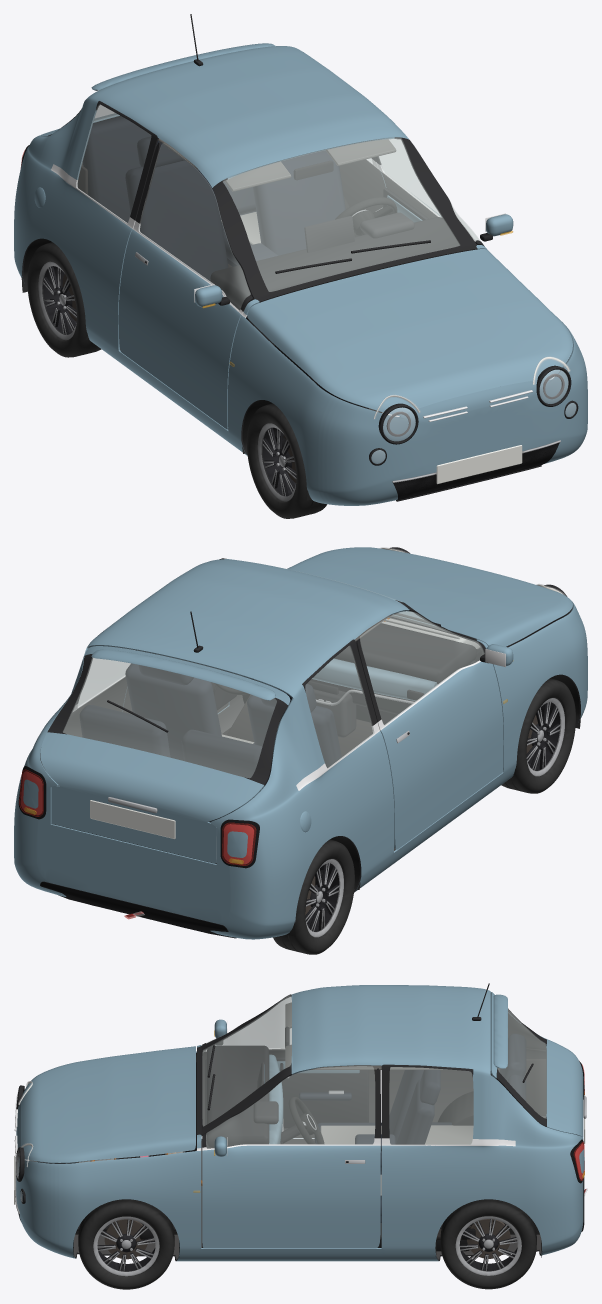
Rendered from fiat500e.glb.
3 renders of one model, top to bottom at view 1: azimuth 30°, elevation 25°; view 2: azimuth 150°, elevation 25°; view 3: azimuth 270°, elevation 25°, orthographic. The views are drawn at different scales.
Visible parts, largest first — view 1: Body, Hood, Windshield, Door_FR, Door_FR_Glass, Seat_FR_Back, Dash_Top, Seat_FL_Back, QuarterGlass, Seat_RR_Back, Wheel_FR_Tire, Wheel_RR_Tire (+12 smaller); view 2: Body, Tailgate, Tailgate_Glass, Door_FR, Hood, Door_FR_Glass, QuarterGlass, Dash_Top, Seat_FL_Back, Wheel_RR_Tire, Wheel_FR_Tire, Seat_RL_Back (+18 smaller); view 3: Body, Door_FL, Hood, Door_FL_Glass, Windshield, QuarterGlass, Dash_Top, Tailgate, Wheel_FL_Tire, Wheel_RL_Tire, Door_FR_Card, Tailgate_Glass (+20 smaller).
Part boxes in pixels (box(x1,y1,x2,y2)): Body: box(14, 46, 587, 505); Hood: box(247, 249, 572, 415); Windshield: box(223, 137, 459, 291); Door_FR: box(118, 142, 252, 429); Door_FR_Glass: box(139, 143, 250, 309); Seat_FR_Back: box(125, 160, 228, 279); Dash_Top: box(210, 217, 459, 306); Seat_FL_Back: box(253, 150, 345, 255); QuarterGlass: box(76, 104, 371, 222); Seat_RR_Back: box(82, 116, 150, 222); Wheel_FR_Tire: box(247, 403, 326, 518); Wheel_RR_Tire: box(27, 242, 101, 357); Body: box(14, 558, 587, 939); Tailgate: box(40, 646, 290, 863); Tailgate_Glass: box(63, 657, 276, 777); Door_FR: box(356, 641, 503, 849); Hood: box(287, 547, 572, 646); Door_FR_Glass: box(360, 611, 484, 724); QuarterGlass: box(78, 646, 373, 768); Dash_Top: box(334, 623, 476, 683); Seat_FL_Back: box(125, 663, 221, 760); Wheel_RR_Tire: box(273, 839, 354, 954); Wheel_FR_Tire: box(501, 678, 575, 793); Seat_RL_Back: box(79, 705, 170, 757); Body: box(16, 985, 583, 1261); Door_FL: box(202, 1068, 380, 1248); Hood: box(21, 1046, 195, 1163); Door_FL_Glass: box(206, 1066, 374, 1148); Windshield: box(202, 995, 291, 1126); QuarterGlass: box(389, 1067, 473, 1144); Dash_Top: box(207, 1045, 269, 1148); Tailgate: box(490, 992, 583, 1137); Wheel_FL_Tire: box(78, 1199, 174, 1289); Wheel_RL_Tire: box(440, 1199, 536, 1289); Door_FR_Card: box(276, 1057, 368, 1128); Tailgate_Glass: box(498, 1009, 546, 1118).
Bounding box in the file's own units: 1.92 × 1.79 × 3.68.
